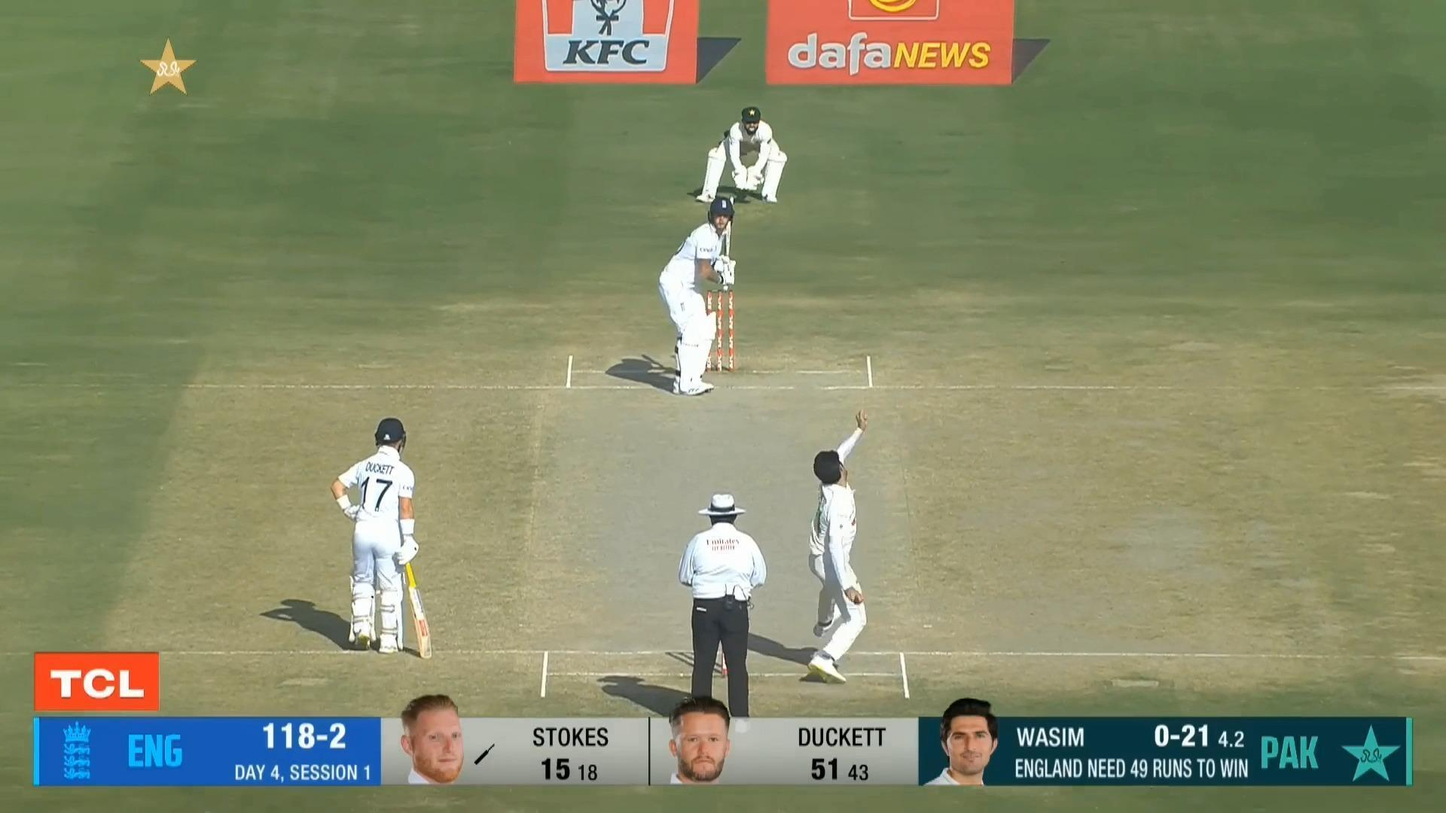BM 1: (656, 194, 741, 397)
BO: (807, 408, 868, 684)
